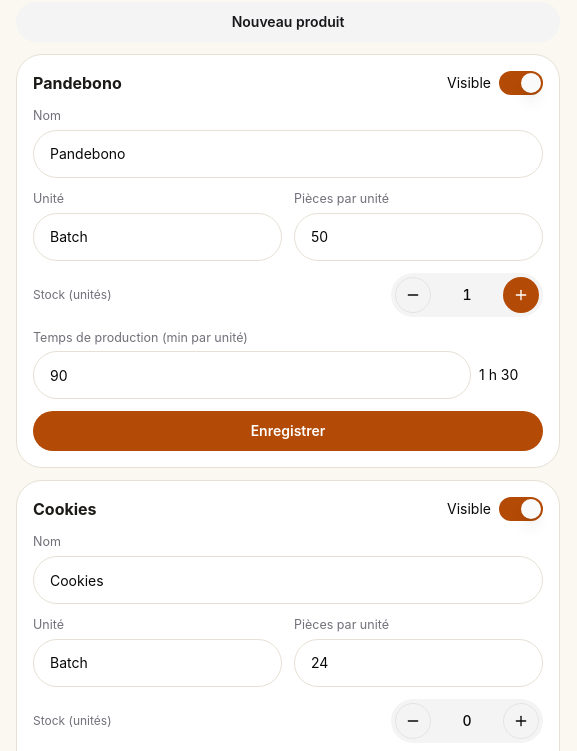
Test: ProductsEditor › refuses 0 pieces per unit with a validation error
This screenshot has width=577, height=751.
Replace the text in the number field labelled "Pièces par unité" below "Pandebono" with "0" at (418, 236), box [294,212,543,260]
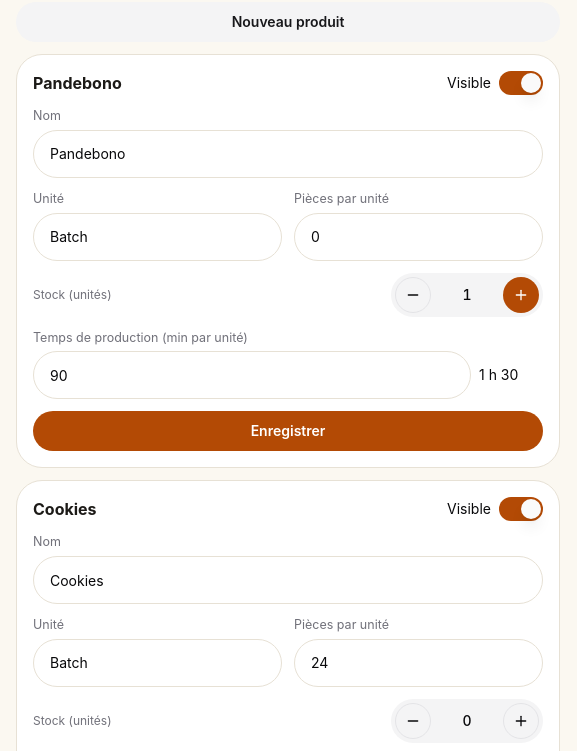
Click the button "Enregistrer" at (288, 431), box [33,411,543,451]
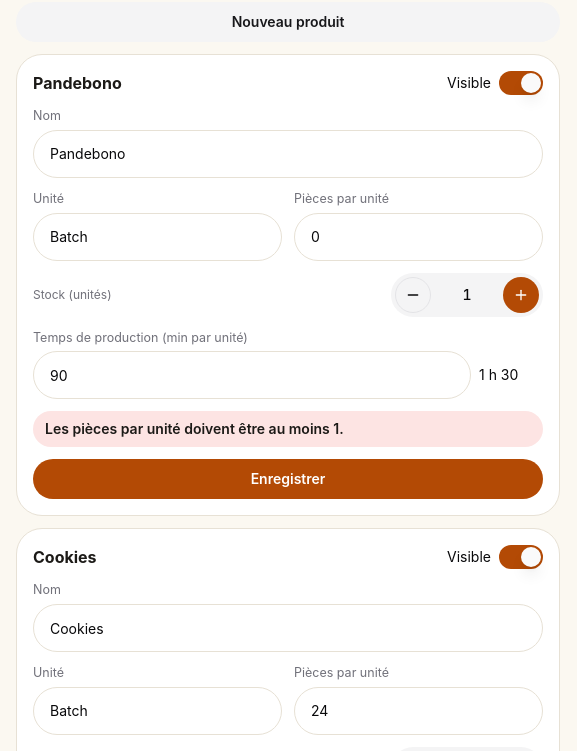
Check: the message "Les pièces par unité doivent être au moins 1." is shown, box [33,411,543,447]
